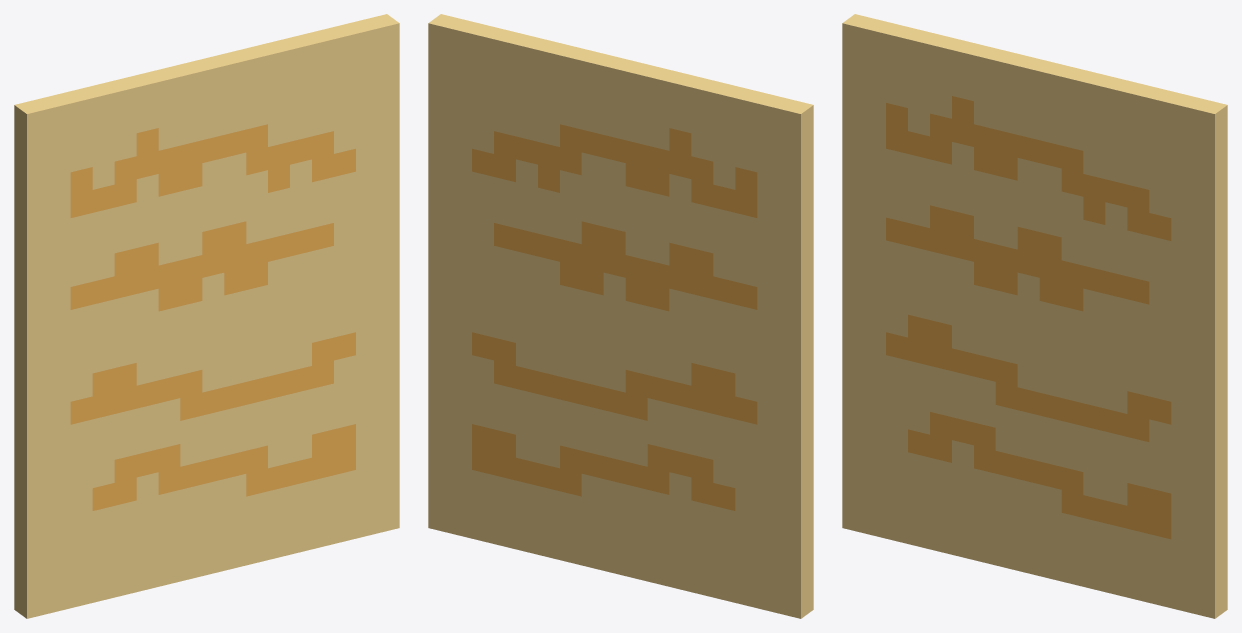
File: PaperScrap.obj
3 renders of one model, left to right at view 1: azimuth 30°, elevation 25°; view 2: azimuth 150°, elevation 25°; view 3: azimuth 330°, elevation 25°, orthographic.
Visible parts, largest first — view 1: PaperScrap; view 2: PaperScrap; view 3: PaperScrap.
Boxes of the visible parts, x1=… form: PaperScrap: x1=14, y1=14, x2=399, y2=618; PaperScrap: x1=428, y1=14, x2=813, y2=618; PaperScrap: x1=842, y1=14, x2=1227, y2=618.
Size of the model in its own units: 17 by 22 by 1.
1 material, 1 textured.
